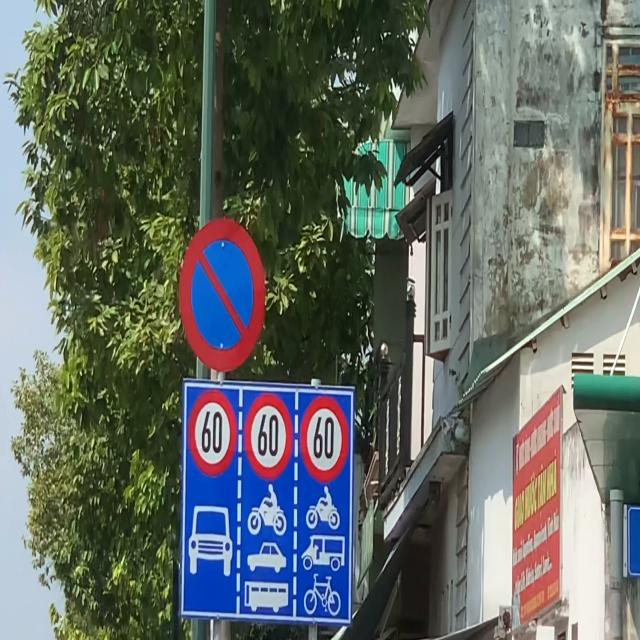Cam do: (177, 216, 267, 373)
Toc do toi da: (187, 389, 237, 476), (300, 396, 349, 484), (244, 392, 293, 479)
